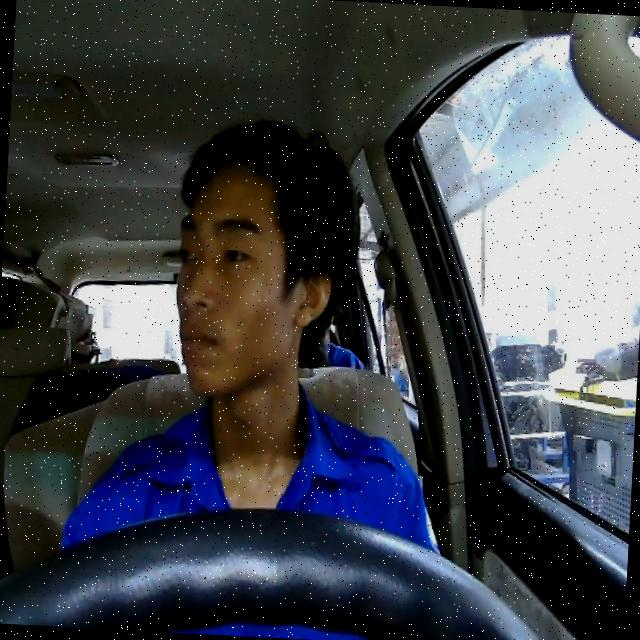seeing_left: (169, 156, 338, 403)
